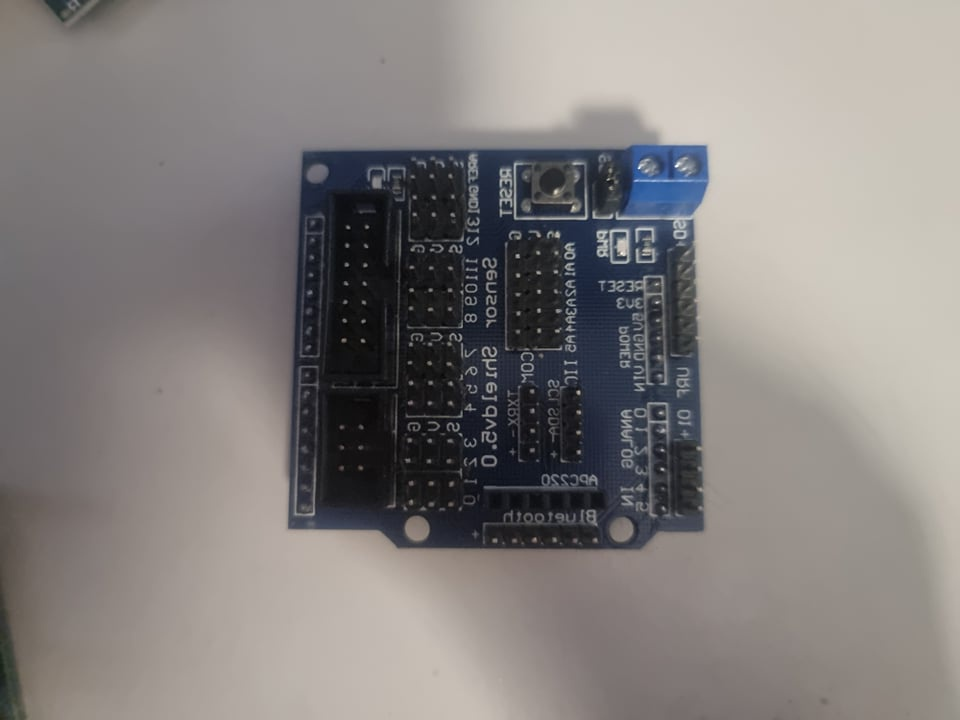5V EXPANSION: (280, 145, 711, 551)
